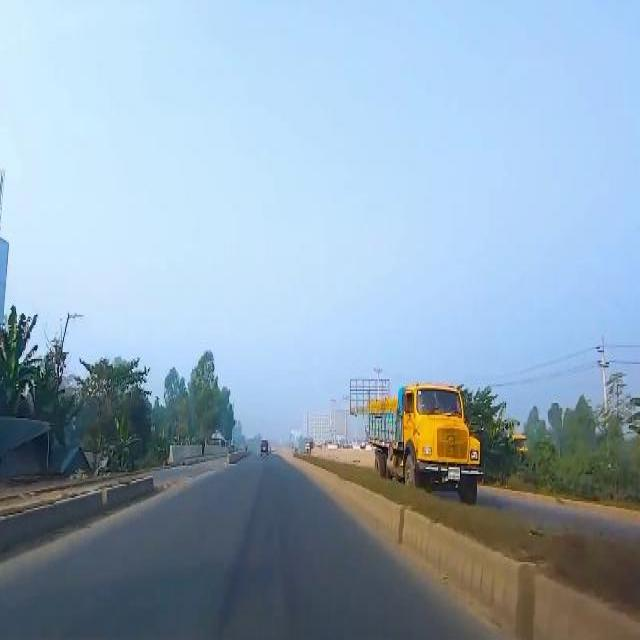vehicle: (367, 382, 479, 499), (261, 439, 270, 452)
